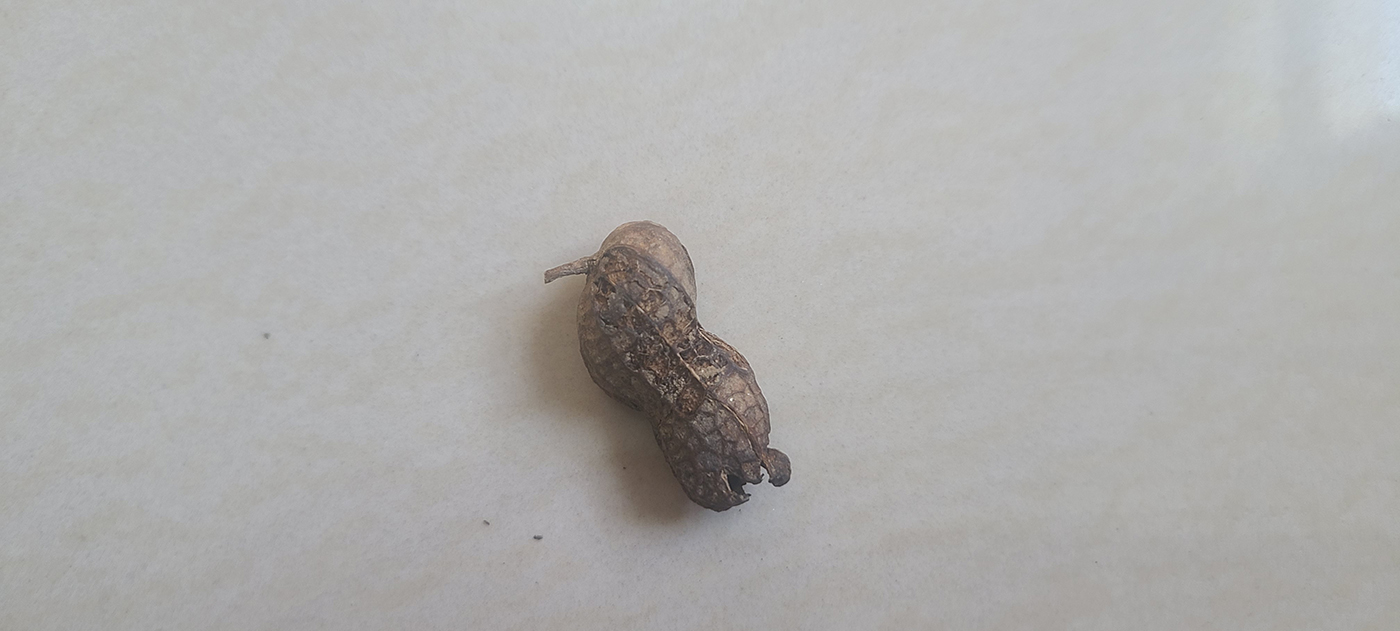l: (576, 220, 794, 510)
